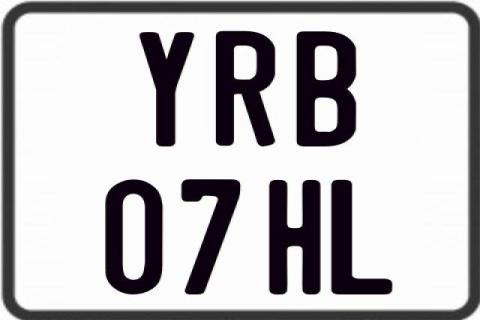0: (102, 179, 166, 297), (180, 177, 242, 293)
B: (294, 29, 357, 148)
H: (268, 180, 321, 298)
L: (328, 178, 392, 292)
R: (213, 31, 278, 149)
Y: (138, 32, 196, 146)
